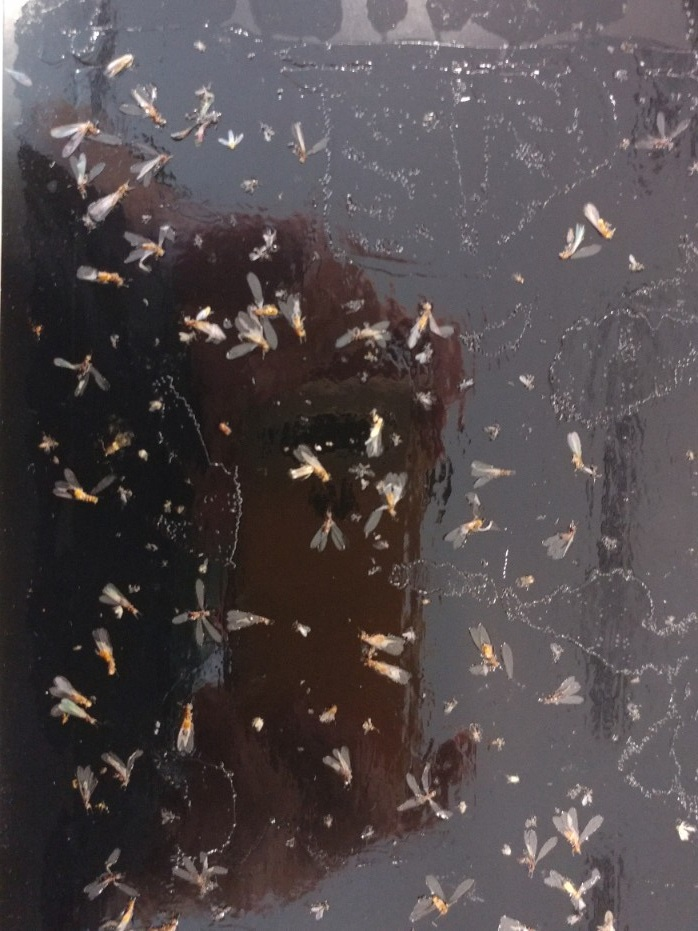termite: (168, 693, 207, 761), (459, 459, 526, 490)
